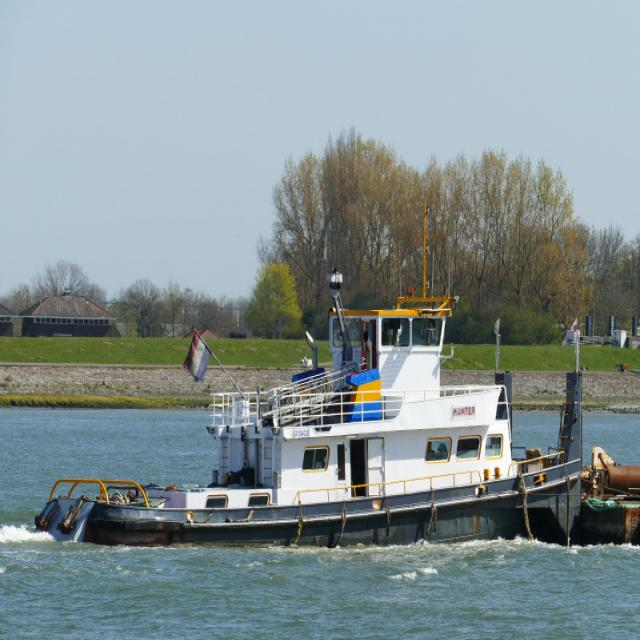tugboat: (28, 294, 593, 565)
